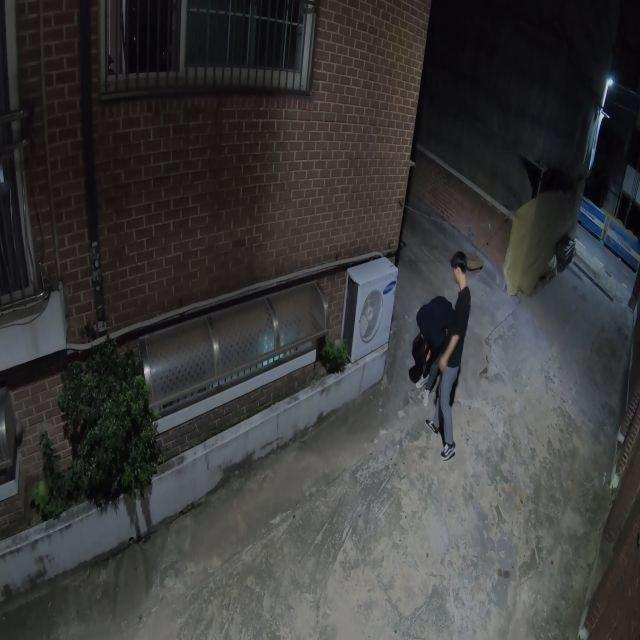fight: (404, 251, 476, 460)
